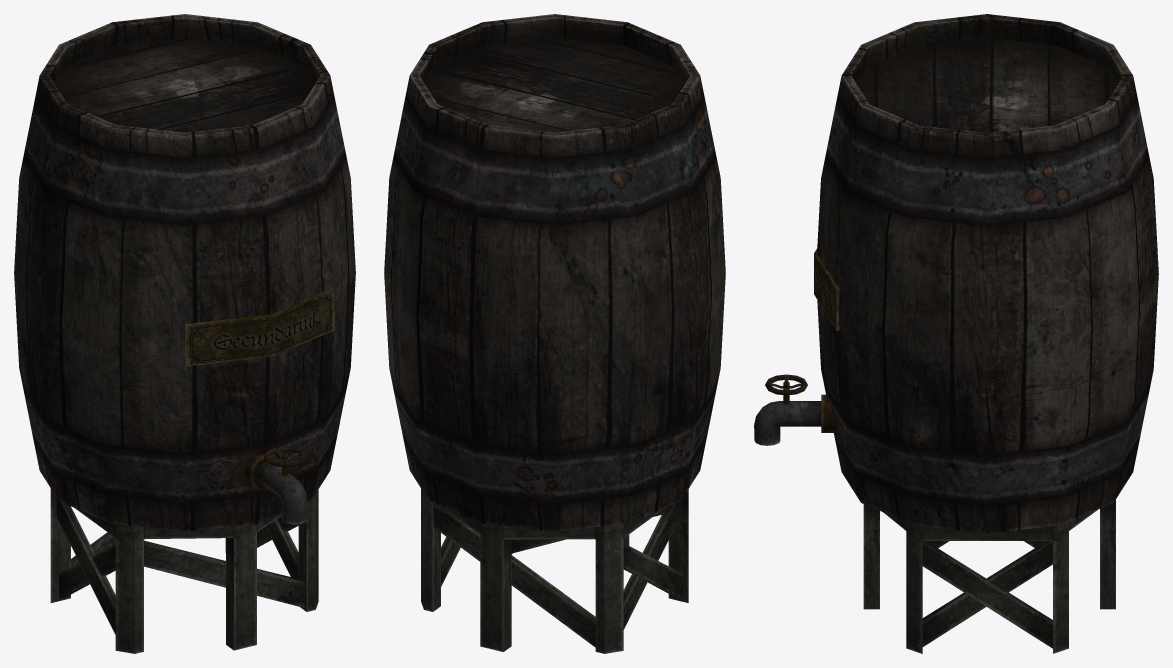
The model's file is epoxy_container02.dae.
The picture shows the model from 3 angles, left to right: view 1: azimuth 30°, elevation 25°; view 2: azimuth 150°, elevation 25°; view 3: azimuth 270°, elevation 25°; orthographic projection.
Visible parts, largest first — view 1: polySurface5, polySurface6; view 2: polySurface5; view 3: polySurface5, polySurface6.
Boxes of the visible parts, <box> form: polySurface5: <box>14,14,355,653</box>; polySurface6: <box>264,446,306,475</box>; polySurface5: <box>384,14,725,653</box>; polySurface5: <box>754,14,1158,653</box>; polySurface6: <box>765,374,807,403</box>.
Size of the model in its own units: 2.35 by 4 by 2.78.
